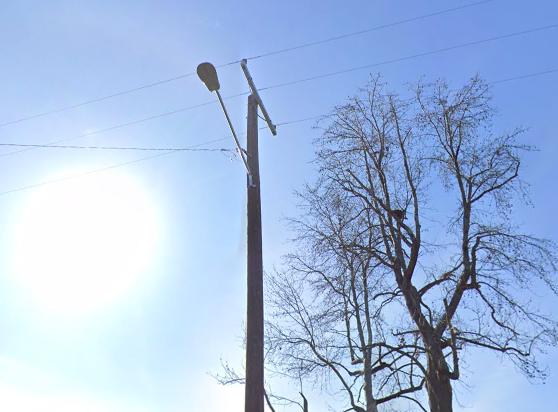utility_pole: (192, 51, 280, 168)
